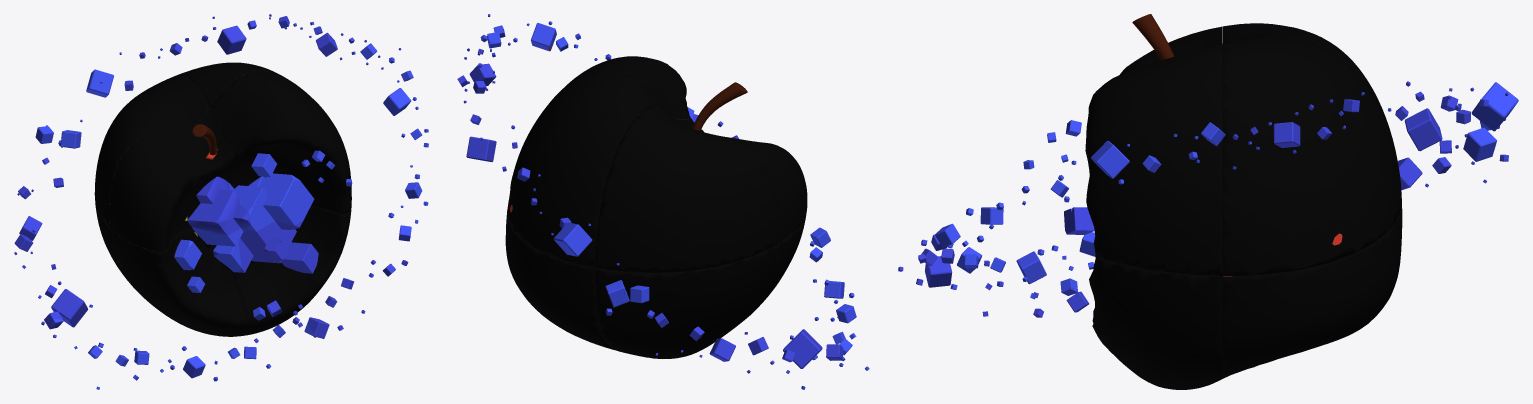
Rendered from cube_isaac newton_apple 8 magic cubes.fbx.
3 views of the same model, side by side, from view 1: azimuth 30°, elevation 25°; view 2: azimuth 150°, elevation 25°; view 3: azimuth 270°, elevation 25° (orthographic). The views are drawn at different scales.
Parts seen in each view (by area): view 1: 立方体.0002, 立方体.0001, 立方体.0005, 立方体.0006, 立方体.0004, 立方体.0003, 立方体.0008; view 2: 立方体.0004, 立方体.0003, 立方体.0008, 立方体.0007, 立方体.0001, 立方体.0002, 立方体.0005; view 3: 立方体.0003, 立方体.0002, 立方体.0006, 立方体.0007, 立方体.0004, 立方体.0001, 立方体.0005, 立方体.0008.
Boxes of the visible parts, x1,y1,x2,y2 form: 立方体.0002: (210, 43, 428, 241); 立方体.0001: (109, 109, 250, 251); 立方体.0005: (52, 227, 314, 389); 立方体.0006: (228, 207, 408, 338); 立方体.0004: (35, 69, 209, 227); 立方体.0003: (119, 14, 380, 107); 立方体.0008: (14, 143, 136, 336); 立方体.0004: (553, 104, 778, 312); 立方体.0003: (457, 40, 664, 267); 立方体.0008: (595, 244, 843, 389); 立方体.0007: (505, 215, 616, 350); 立方体.0001: (666, 82, 807, 243); 立方体.0002: (480, 14, 694, 120); 立方体.0005: (728, 216, 869, 370); 立方体.0003: (1222, 37, 1508, 275); 立方体.0002: (935, 43, 1222, 275); 立方体.0006: (898, 207, 1222, 389); 立方体.0007: (1222, 205, 1402, 378); 立方体.0004: (1222, 23, 1518, 161); 立方体.0001: (1120, 14, 1222, 74); 立方体.0005: (950, 232, 1095, 299); 立方体.0008: (1398, 140, 1508, 190).
Bounding box in the file's own units: 327 × 234 × 366.
